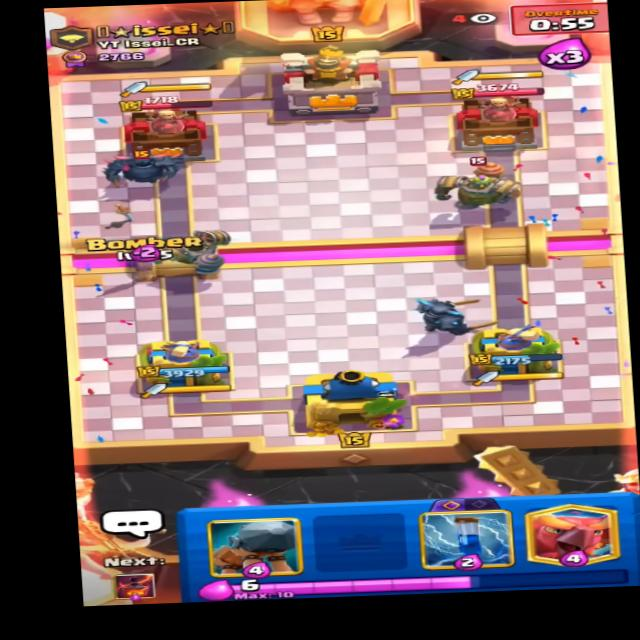Goblinmachine: (429, 150, 538, 207)
Pekka: (95, 144, 185, 189)
